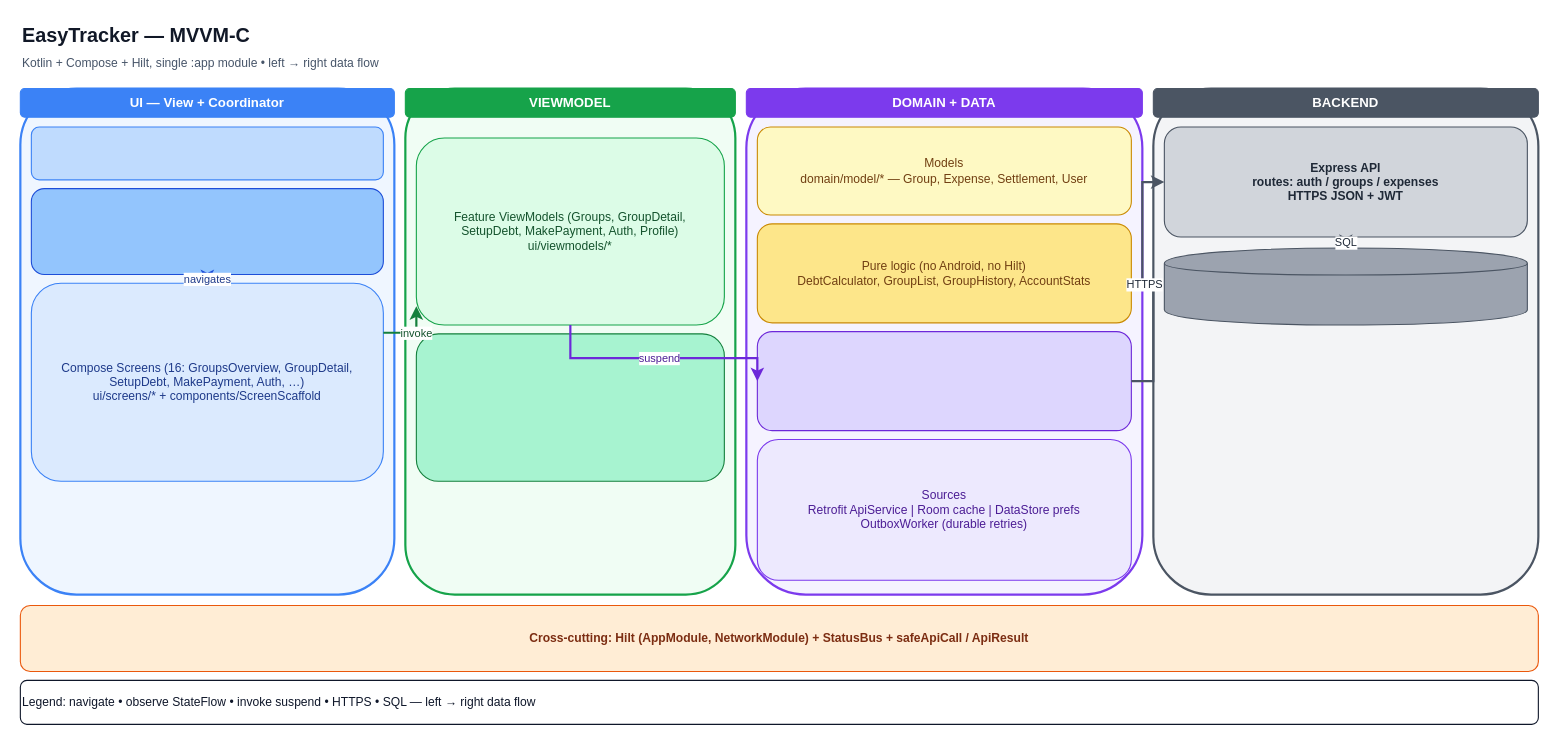
Image size: 1558x744. Some labels were removed from this diagram. Here are the shapes that lost their labels. From the top down, the box of each, then its label:
(30, 126, 383, 180): MainActivity → EasyTrackerApp @AndroidEntryPoint entry
(30, 188, 383, 274): C — AppNavHost + Routes Coordinator: NavHost, guards, hiltViewModel()
(1163, 247, 1527, 325): Postgres — users, groups, expenses
(756, 331, 1131, 431): Repositories Group / Expense / User interfaces + Api* impls data/*
(415, 333, 724, 481): BaseViewModel + RequestStatus (StateFlow) Pending / Success / Failed
